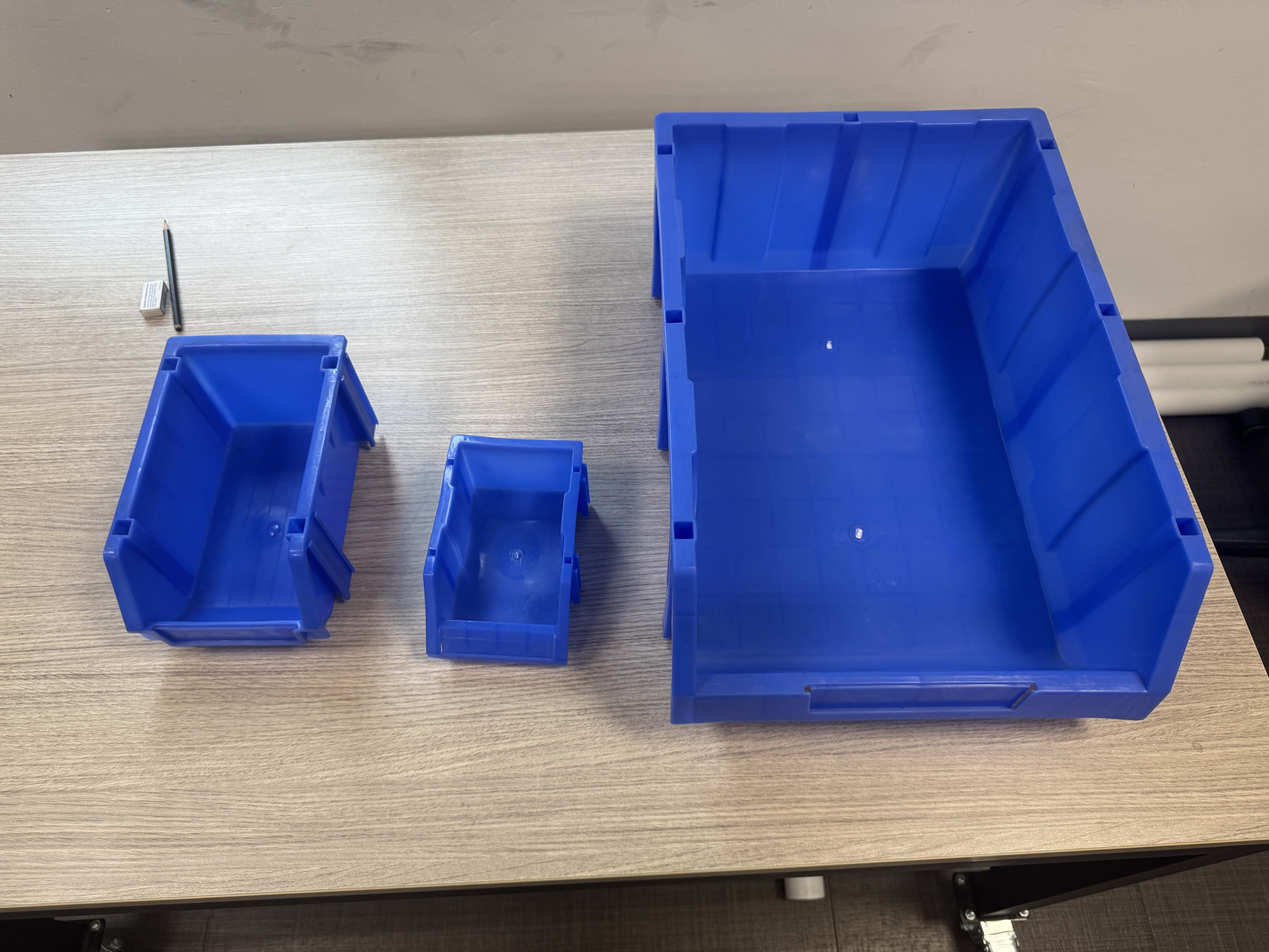Bin Boundary: (675, 108, 1191, 690), (120, 344, 331, 620), (433, 445, 570, 624)
